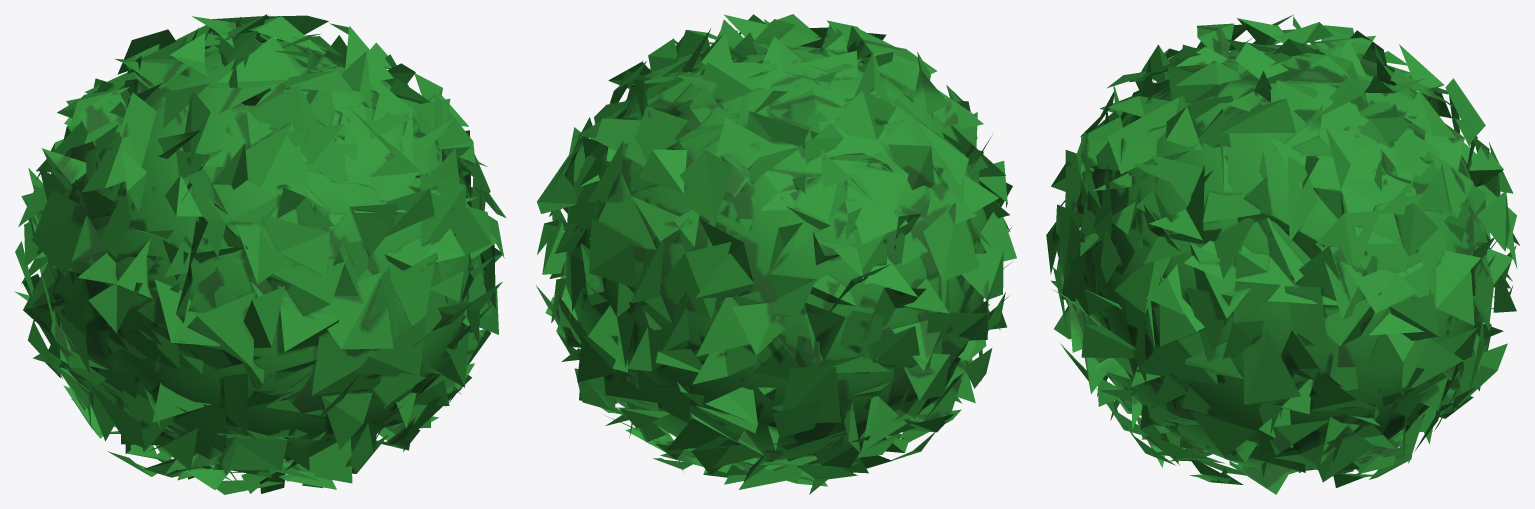
The model's file is bush.fbx.
The picture shows the model from 3 angles, left to right: view 1: azimuth 30°, elevation 25°; view 2: azimuth 150°, elevation 25°; view 3: azimuth 270°, elevation 25°; orthographic projection.
Visible parts, largest first — view 1: Cube; view 2: Cube; view 3: Cube.
Boxes of the visible parts, left/top/right/bottom form: Cube: left=14, top=14, right=505, bottom=494; Cube: left=536, top=14, right=1016, bottom=494; Cube: left=1046, top=14, right=1519, bottom=494.
Size of the model in its own units: 192 by 193 by 191.
1 material, 1 textured.
